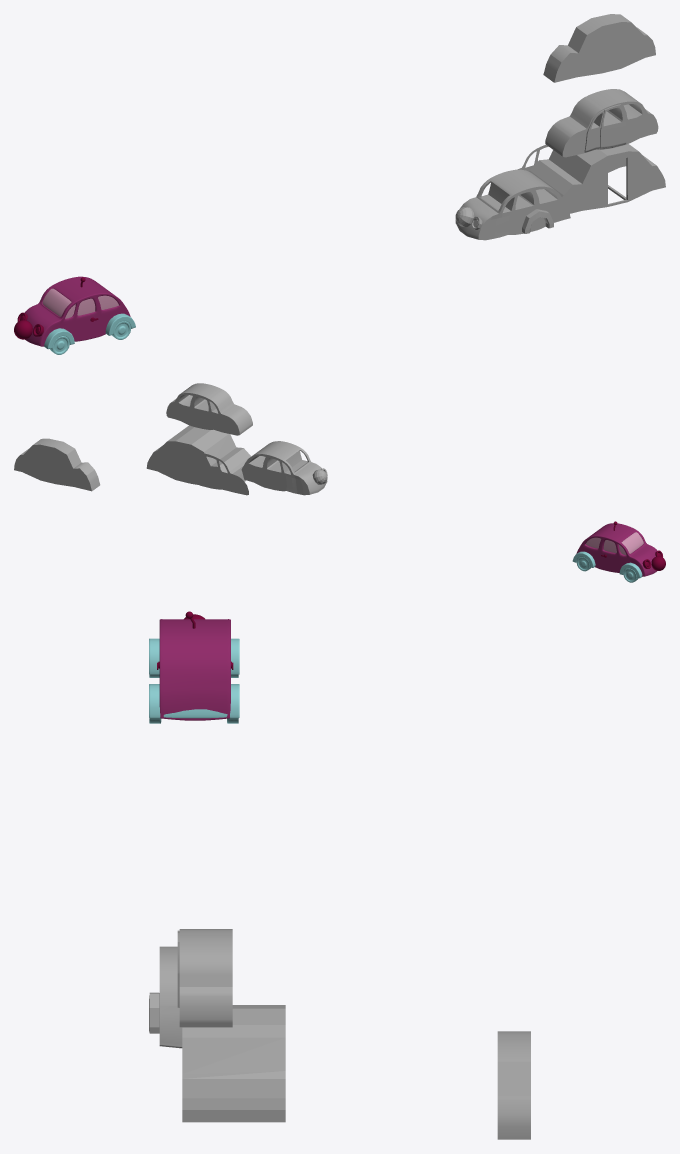
Rendered from CLOWN CAR FINALE.fbx.
The picture shows the model from 3 angles, top to bottom: view 1: azimuth 30°, elevation 25°; view 2: azimuth 150°, elevation 25°; view 3: azimuth 270°, elevation 25°; orthographic projection. The views are drawn at different scales.
Parts seen in each view (by area): view 1: pCylinder21, pCube2, polySurface1, pCube1, polySurface4, pCylinder22; view 2: pCube2, pCylinder21, polySurface4, polySurface1, pCube1, polySurface3, pCylinder22; view 3: pCube2, pCylinder21, polySurface1, pCube1, polySurface4.
Part boxes in pixels (x1,y1,x2,y2): pCylinder21: (14,276,135,349); pCube2: (529,144,665,213); polySurface1: (545,89,658,157); pCube1: (543,14,655,82); polySurface4: (455,169,570,240); pCylinder22: (50,321,131,354); pCube2: (146,425,250,490); pCylinder21: (572,521,665,578); polySurface4: (241,441,327,495); polySurface1: (166,383,252,435); pCube1: (14,438,100,491); polySurface3: (174,452,248,495); pCylinder22: (576,557,638,582); pCube2: (182,1005,285,1122); pCylinder21: (149,611,239,720); polySurface1: (177,929,232,1027); pCube1: (497,1031,530,1139); polySurface4: (159,946,182,1048).
Size of what is drawn, in the model's own units: 197 by 26.92 by 57.48.
